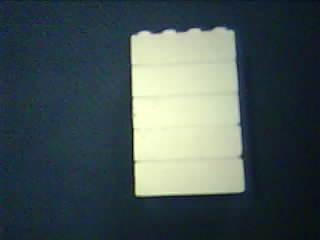lego: (129, 26, 246, 199)
